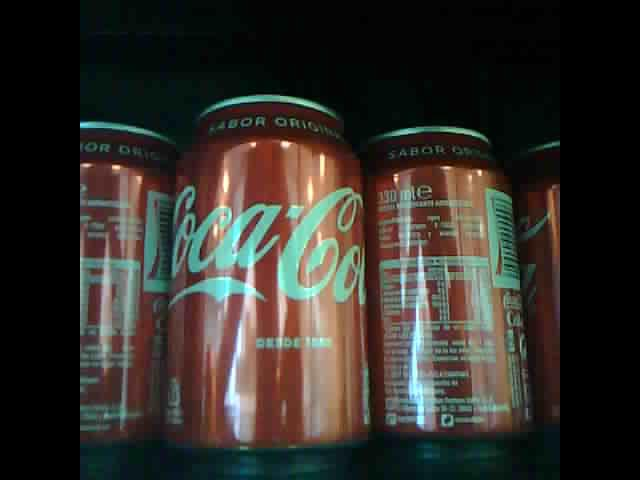coca cola: (164, 88, 373, 454), (365, 116, 532, 452), (81, 118, 167, 441), (511, 135, 559, 438)
